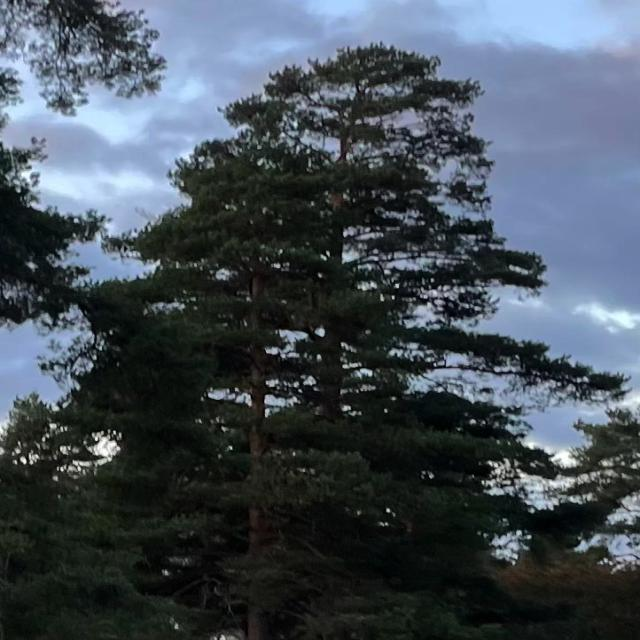pine: (57, 25, 631, 640)
